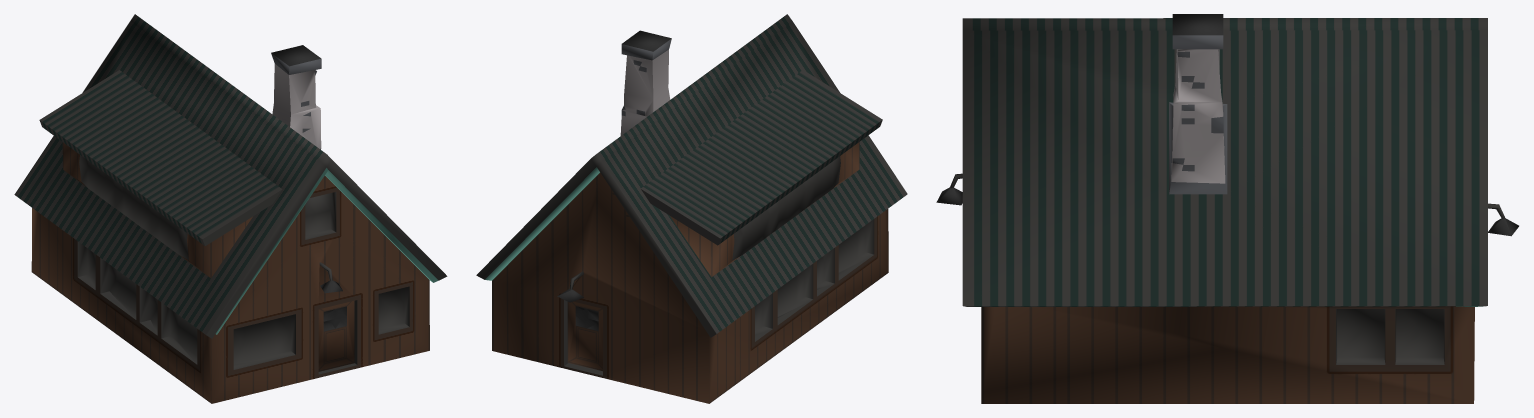
Rendered from decimatedCabin0.4.glb.
3 renders of one model, left to right at view 1: azimuth 30°, elevation 25°; view 2: azimuth 150°, elevation 25°; view 3: azimuth 270°, elevation 25°, orthographic. The views are drawn at different scales.
Visible parts, largest first — view 1: Cabin.006; view 2: Cabin.006; view 3: Cabin.006.
Boxes of the visible parts, x1,y1,x2,y2 form: Cabin.006: (14, 14, 447, 403); Cabin.006: (476, 14, 907, 403); Cabin.006: (936, 14, 1518, 403).
Bounding box in the file's own units: 0.1219 × 0.1208 × 0.1863.
Materials: 1 (1 with a texture image).
